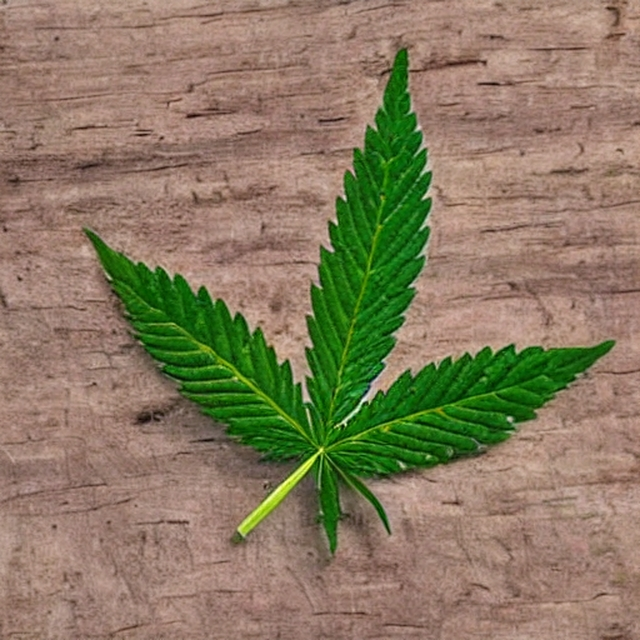Marijuana Leaf: (80, 45, 616, 556)
